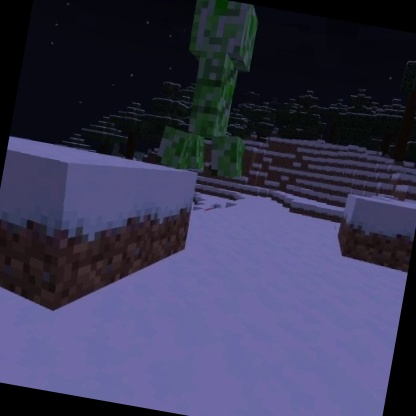creeper: (151, 0, 274, 183)
